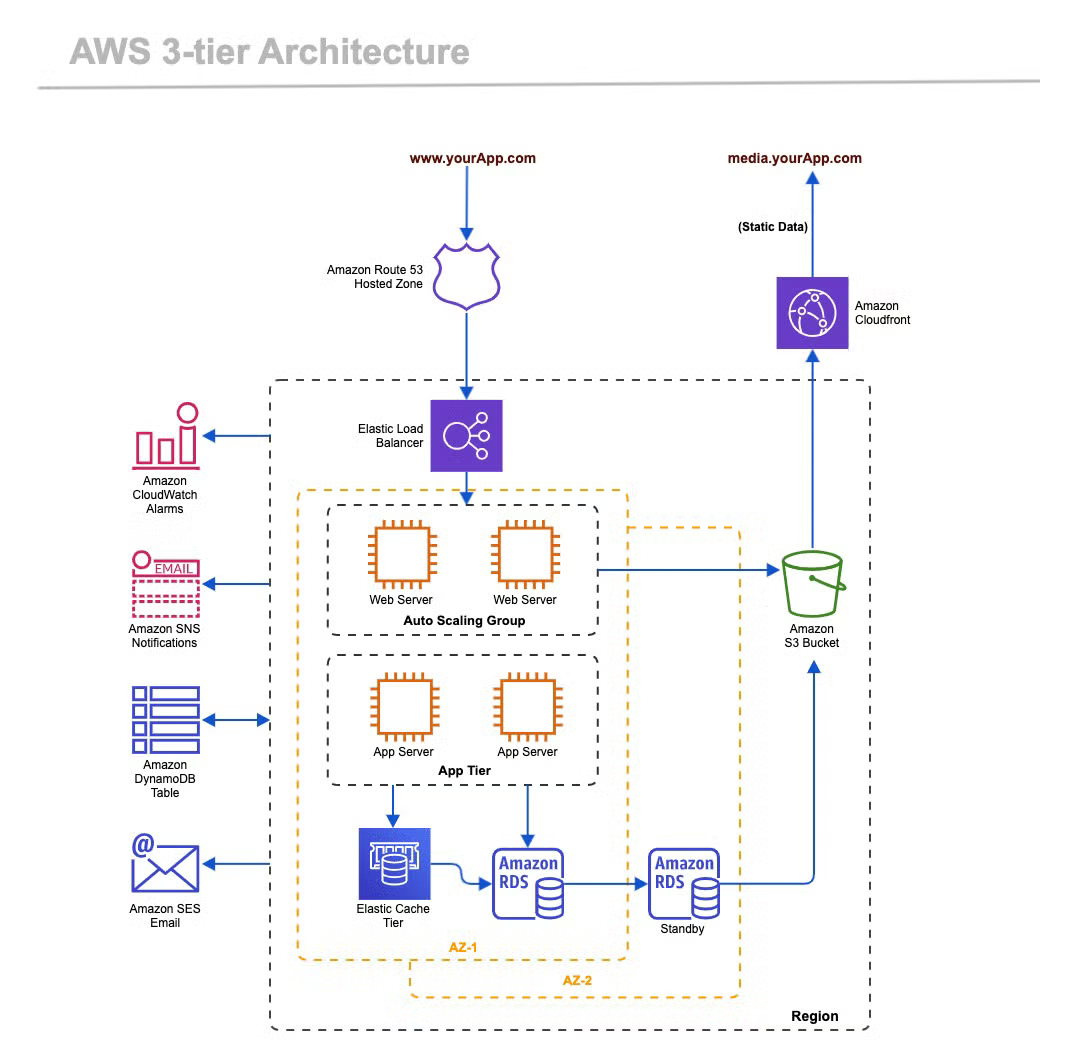cloudfront: (778, 279, 847, 349)
cloudwatch: (129, 397, 204, 475)
dynamodb: (130, 682, 203, 757)
ec2: (366, 669, 445, 746), (493, 668, 567, 743), (368, 517, 441, 593), (490, 517, 564, 591)
elasticache: (360, 830, 428, 898)
elb: (431, 404, 501, 468)
rds: (645, 845, 724, 921), (491, 847, 565, 920)
route 53: (430, 241, 505, 311)
s3: (780, 543, 846, 619)
ses: (129, 828, 203, 898)
sns: (130, 546, 203, 622)
